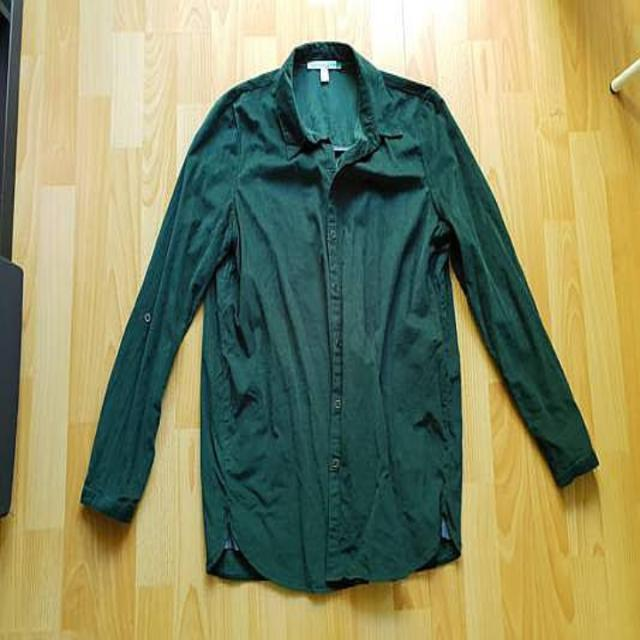SHIRT: (60, 26, 608, 606)
